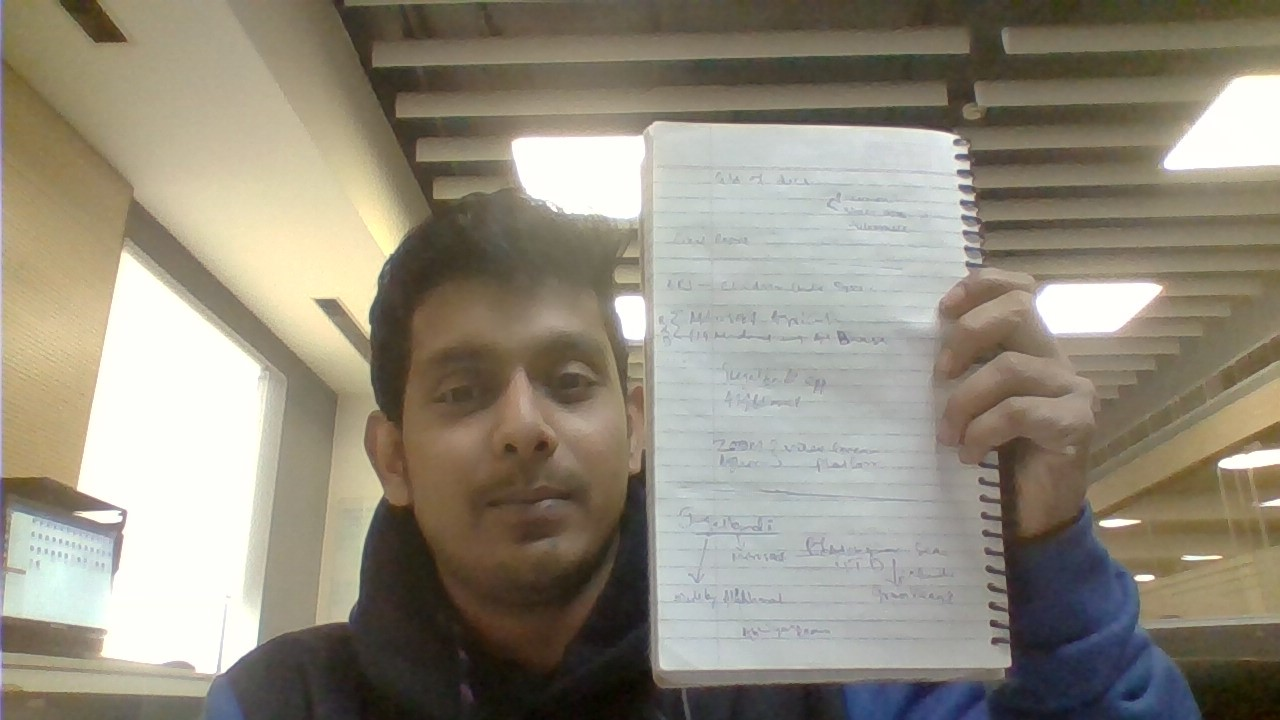notebook: (643, 114, 1016, 677)
